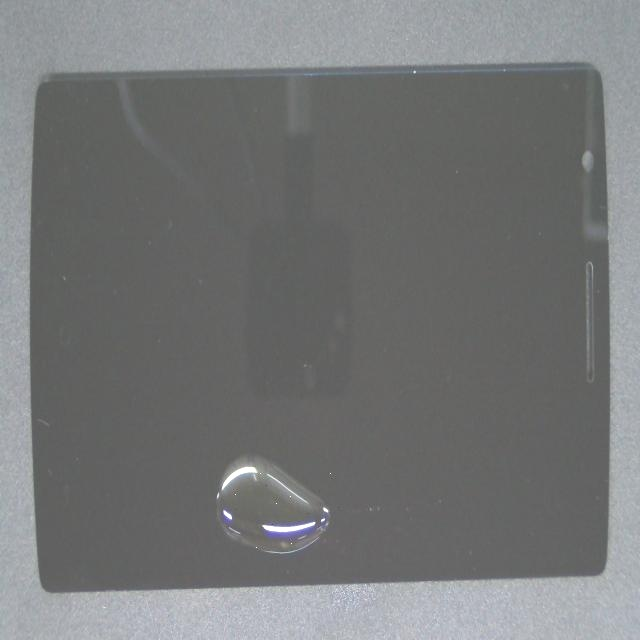oil: (139, 214, 337, 640)
